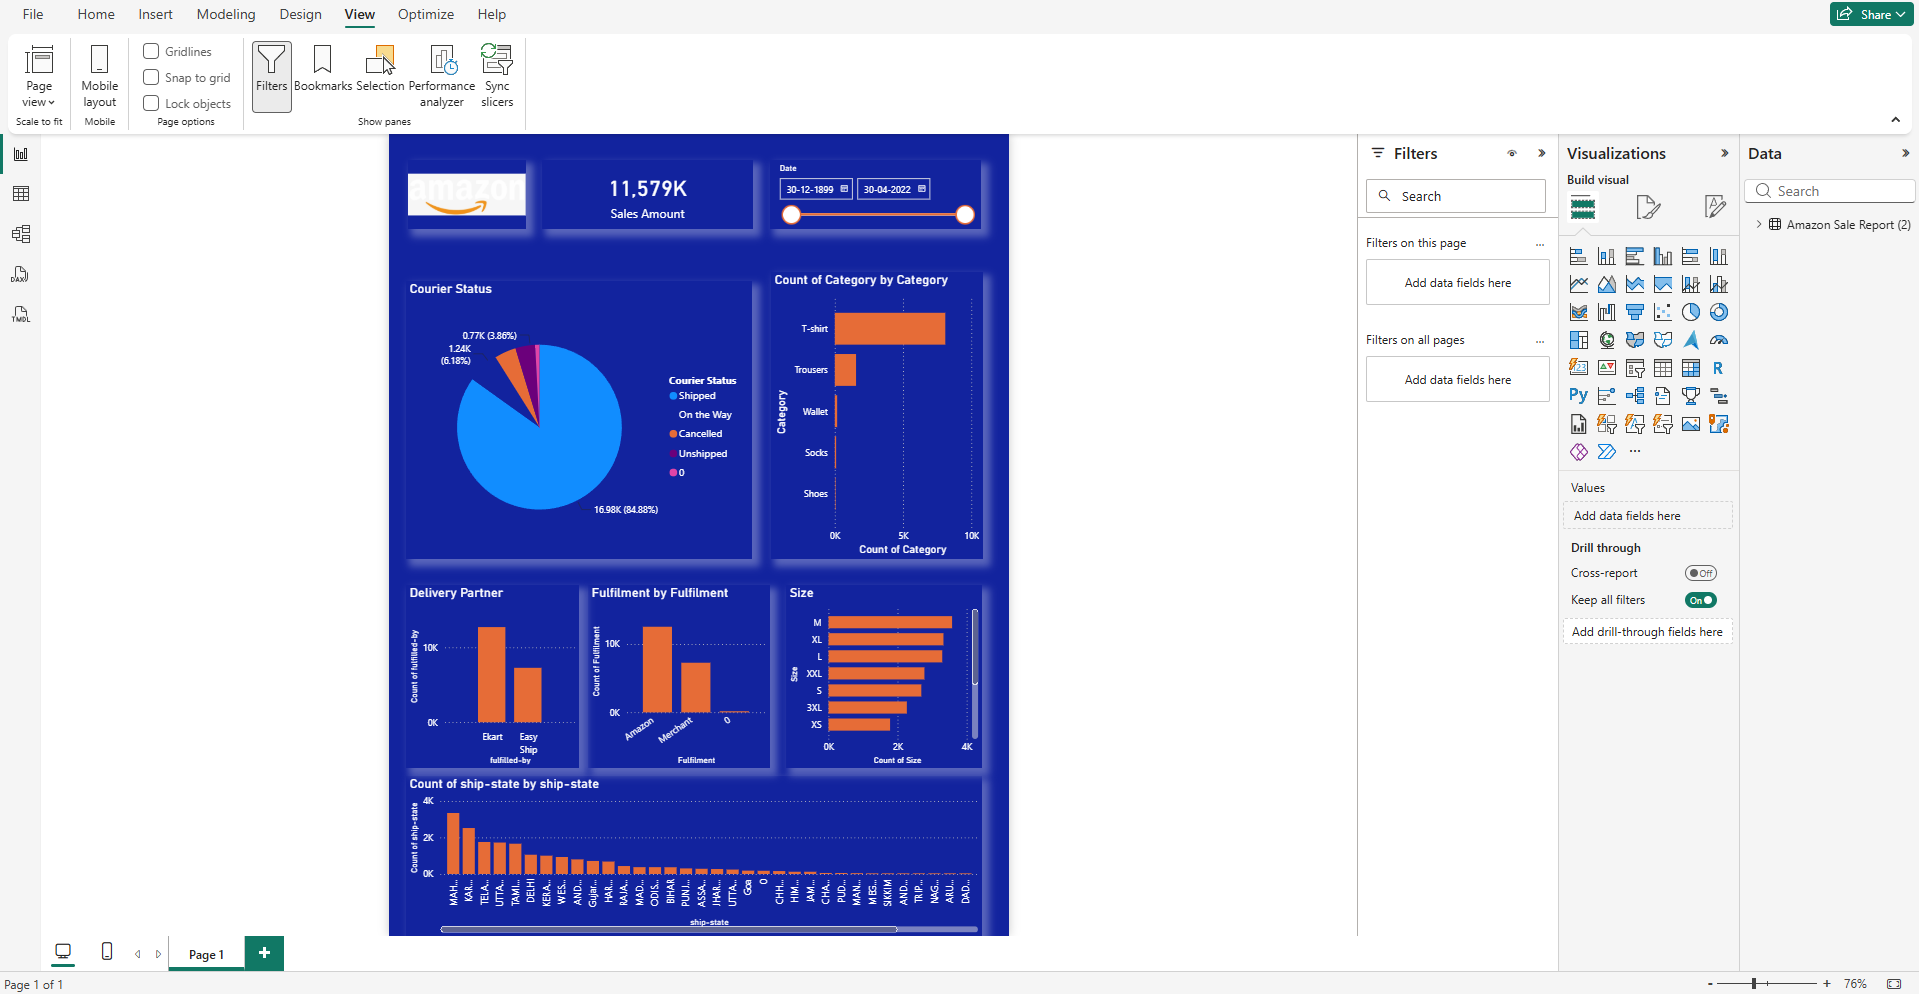

Layout of this report page (visuals, bound fields, positions):
{"tool":"powerbi","page":{"name":"Page 1","canvas":[816,1056],"ordinal":0},"visuals":[{"type":"image","box":[25,34.4,154.8,90.7],"z":0},{"type":"card","fields":{"Values":["Sum(Amazon Sale Report (2).Amount)"]},"box":[201.7,34.4,278.3,90.7],"z":1},{"type":"slicer","fields":{"Values":["Amazon Sale Report (2).Date"]},"box":[501.8,34.4,278.3,90.7],"z":2},{"type":"barChart","fields":{"Category":["Amazon Sale Report (2).Category"],"Y":["CountNonNull(Amazon Sale Report (2).Category)"]},"box":[502.5,182.1,278.9,378],"z":3},{"type":"pieChart","title":"Courier Status","fields":{"Category":["Amazon Sale Report (2).Courier Status"],"Y":["CountNonNull(Amazon Sale Report (2).Courier Status)"]},"box":[21.9,193.8,456.5,365.8],"z":4},{"type":"columnChart","title":"Delivery Partner","fields":{"Category":["Amazon Sale Report (2).fulfilled-by"],"Y":["CountNonNull(Amazon Sale Report (2).fulfilled-by)"]},"box":[21.9,594,228.2,240.7],"z":5},{"type":"columnChart","title":"Fulfilment by Fulfilment","fields":{"Category":["Amazon Sale Report (2).Fulfilment"],"Y":["CountNonNull(Amazon Sale Report (2).Fulfilment)"]},"box":[262.6,594,239.2,240.7],"z":6},{"type":"clusteredBarChart","title":"Size","fields":{"Category":["Amazon Sale Report (2).Size"],"Y":["CountNonNull(Amazon Sale Report (2).Size)"]},"box":[522.1,594,257.9,240.7],"z":7},{"type":"clusteredColumnChart","fields":{"Category":["Amazon Sale Report (2).ship-state"],"Y":["CountNonNull(Amazon Sale Report (2).ship-state)"]},"box":[21.9,845.7,758.2,211],"z":8}]}

Visuals, with their boxes on the page's 816x1056 design canvas (x1, y1, x2, y2). These are canvas units, not pixel positions in the 1919x994 screenshot, which may show the page scaled, cropped or inside an application window:
image: bbox=(25, 34, 180, 125)
card - Sum(Amazon Sale Report (2).Amount): bbox=(202, 34, 480, 125)
slicer - Amazon Sale Report (2).Date: bbox=(502, 34, 780, 125)
barChart - Amazon Sale Report (2).Category x CountNonNull(Amazon Sale Report (2).Category): bbox=(502, 182, 781, 560)
"Courier Status" pieChart: bbox=(22, 194, 478, 560)
"Delivery Partner" columnChart: bbox=(22, 594, 250, 835)
"Fulfilment by Fulfilment" columnChart: bbox=(263, 594, 502, 835)
"Size" clusteredBarChart: bbox=(522, 594, 780, 835)
clusteredColumnChart - Amazon Sale Report (2).ship-state x CountNonNull(Amazon Sale Report (2).ship-state): bbox=(22, 846, 780, 1057)
